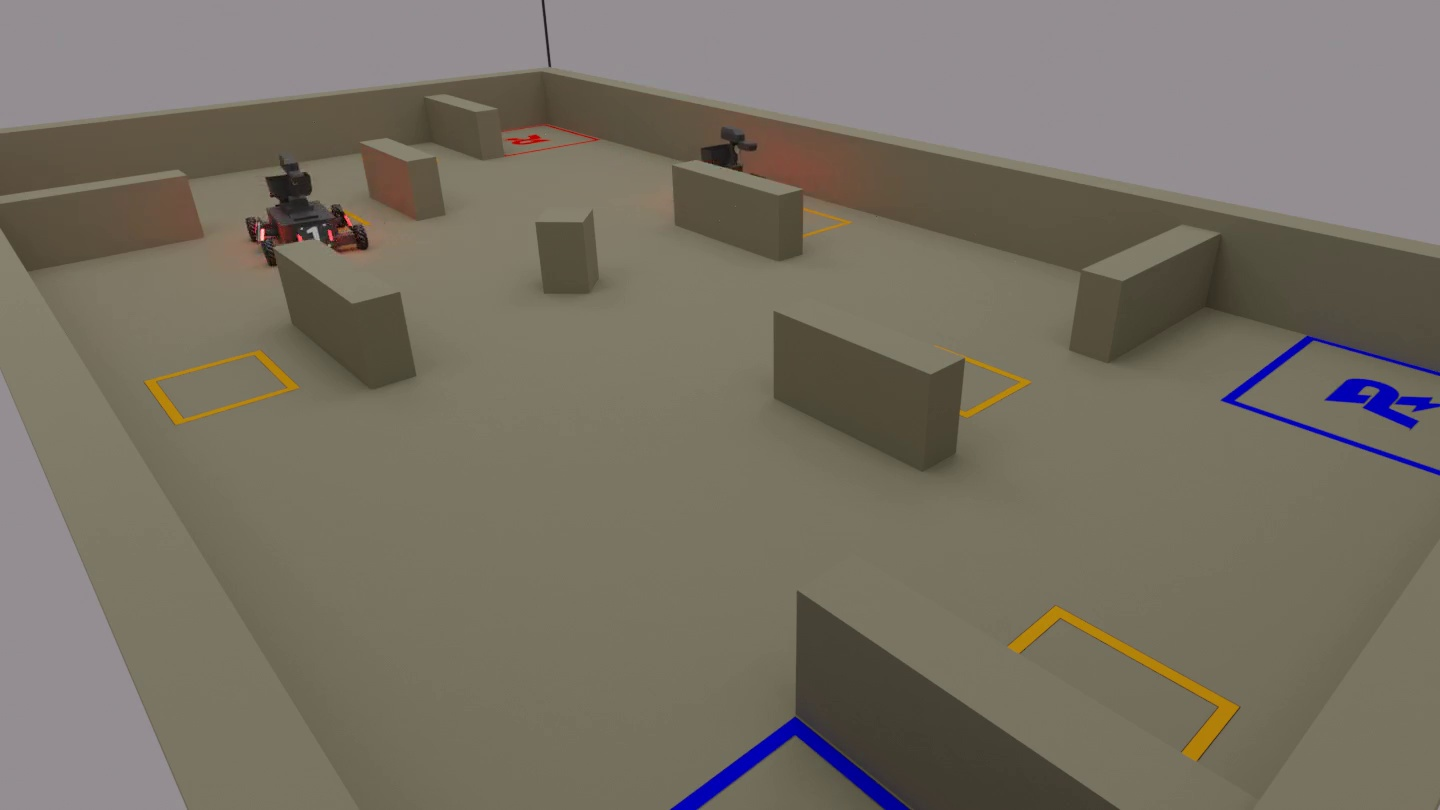Bot 1: (228, 151, 381, 271)
Bot 2: (674, 116, 807, 230)
